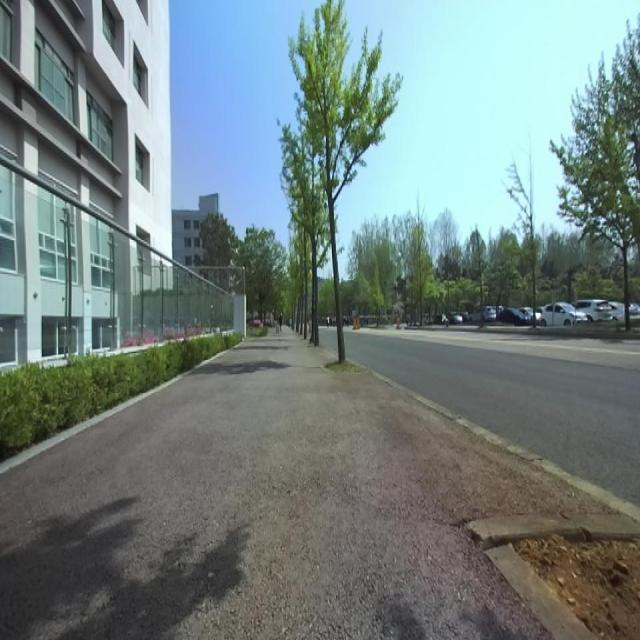sidewalk: (0, 331, 608, 639)
